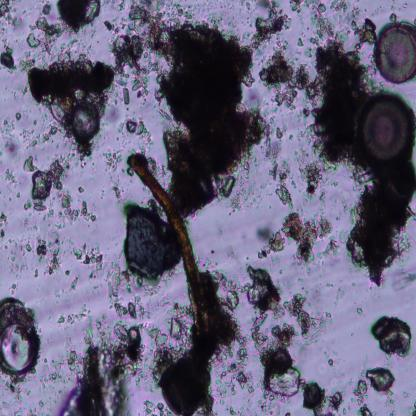Background material: (160, 16, 266, 218), (344, 164, 416, 288), (64, 324, 142, 415), (148, 336, 236, 413), (314, 36, 364, 162), (25, 53, 115, 106), (122, 203, 182, 280), (288, 1, 374, 48), (284, 208, 338, 272), (260, 52, 319, 107), (116, 3, 170, 57), (111, 34, 151, 100), (103, 260, 148, 318), (23, 155, 68, 212), (8, 229, 62, 275), (244, 264, 285, 320), (256, 349, 301, 399), (287, 290, 327, 343), (250, 0, 292, 49), (370, 314, 414, 358), (153, 304, 192, 349), (2, 376, 47, 414), (56, 187, 100, 221), (56, 0, 103, 31), (303, 378, 343, 414), (266, 161, 296, 208), (25, 16, 62, 54), (61, 23, 93, 66), (288, 112, 316, 158), (72, 243, 104, 280), (229, 398, 293, 416), (0, 110, 23, 159), (236, 333, 254, 394), (298, 156, 323, 196), (37, 350, 62, 388), (65, 135, 99, 162), (22, 126, 62, 148), (366, 364, 395, 394), (56, 302, 89, 327), (257, 232, 283, 263), (221, 268, 238, 312), (104, 177, 130, 205), (355, 380, 374, 416), (117, 114, 149, 134), (0, 1, 22, 29), (0, 43, 18, 77), (268, 327, 298, 347), (57, 278, 80, 300), (170, 3, 194, 23), (104, 150, 124, 172), (320, 350, 339, 372), (144, 398, 166, 416), (251, 226, 275, 242), (136, 134, 154, 155), (20, 56, 35, 77), (0, 212, 8, 249), (322, 160, 339, 174), (223, 176, 234, 197), (103, 18, 124, 29), (120, 86, 131, 106), (275, 122, 287, 140), (4, 169, 16, 185), (388, 12, 401, 25), (42, 2, 54, 16), (42, 208, 54, 222), (353, 307, 368, 318), (7, 284, 18, 298), (407, 398, 416, 415), (334, 289, 342, 307), (327, 177, 340, 187), (297, 274, 307, 283), (319, 193, 327, 204), (245, 1, 252, 12), (15, 190, 21, 200)
Diatom: (357, 94, 416, 166), (0, 299, 39, 374), (373, 20, 416, 81), (71, 100, 101, 141), (49, 101, 68, 126), (250, 311, 268, 330)
